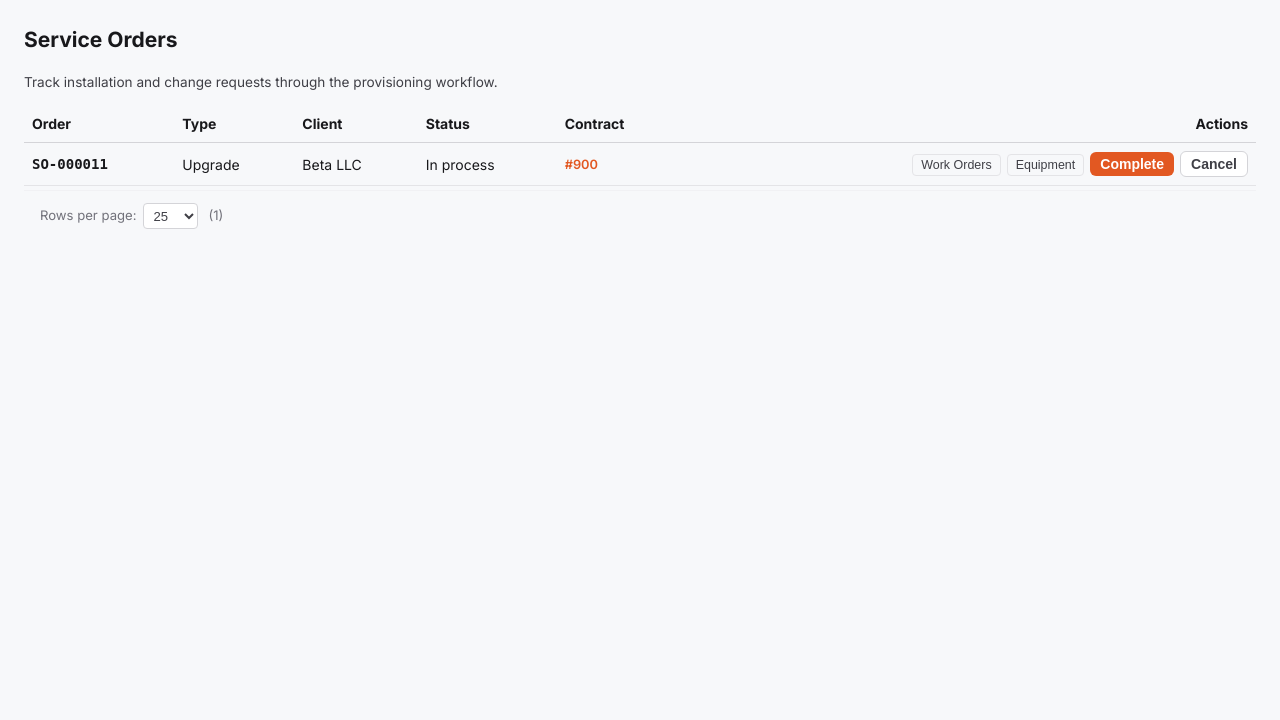
ServiceOrderList page › does not offer invoice creation without invoices.create
Click the button "Complete": point(1132, 164) [1090,152,1174,176]
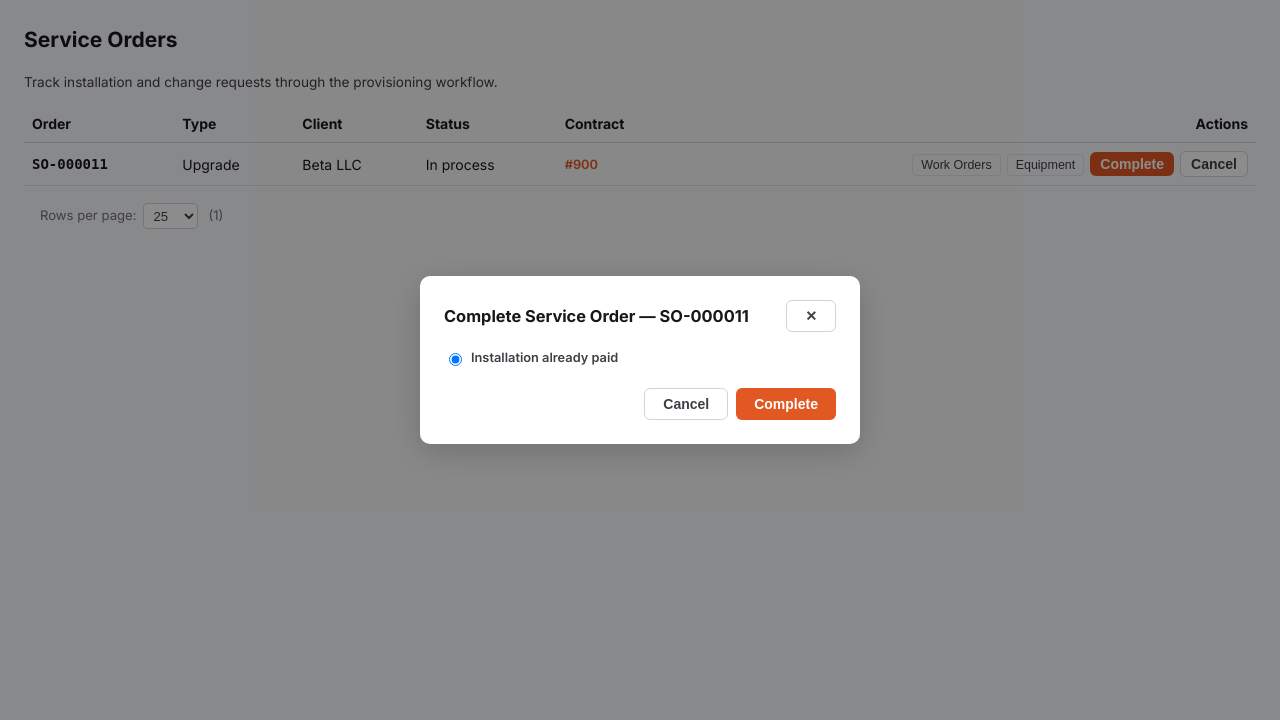
Expected: the radio button labelled "Installation already paid" is checked, [449,353,462,366]
